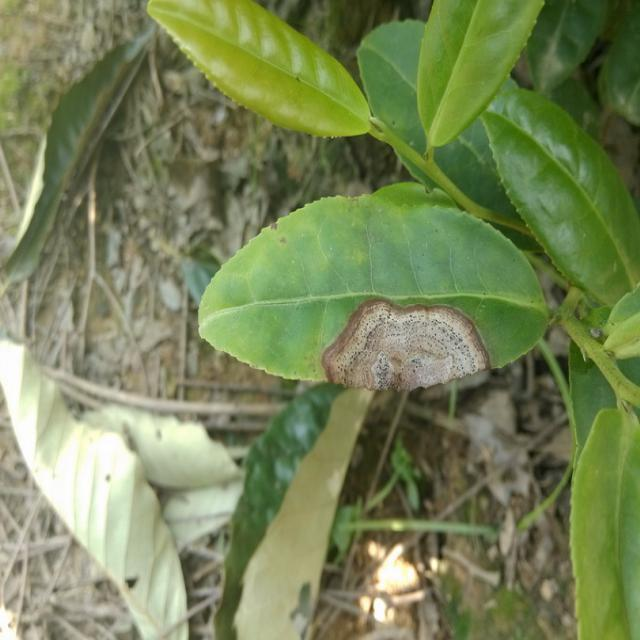Tea cloud leaf blight: (328, 298, 494, 395)
